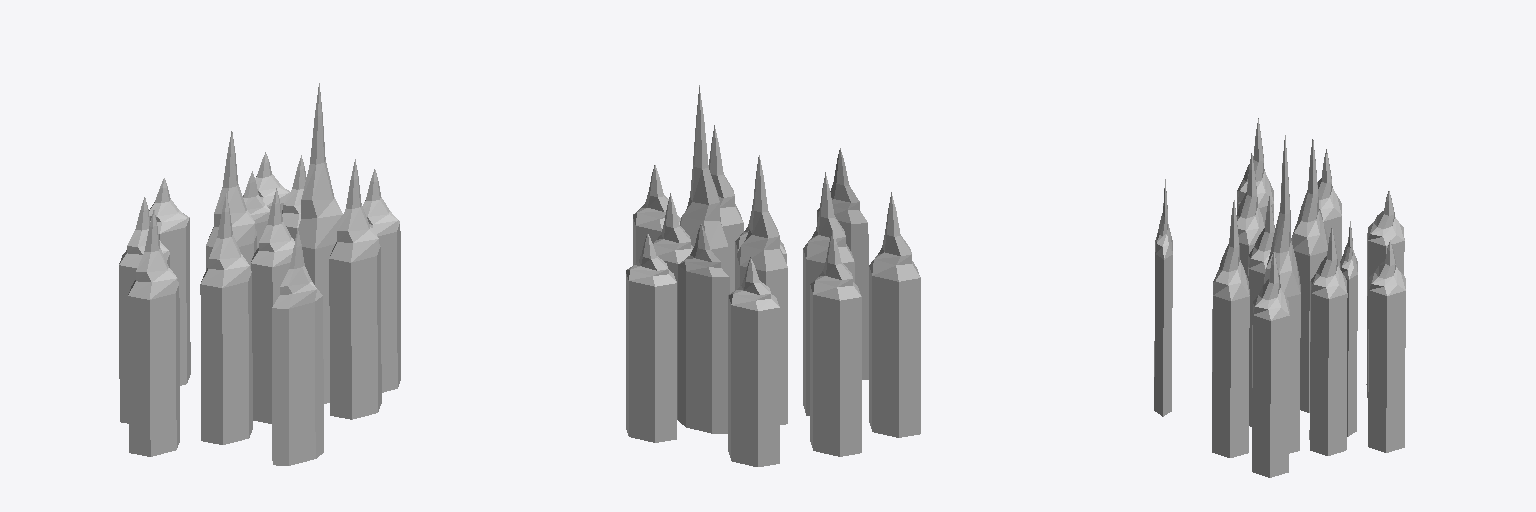
File: Penitentes.obj
3 renders of one model, left to right at view 1: azimuth 30°, elevation 25°; view 2: azimuth 150°, elevation 25°; view 3: azimuth 270°, elevation 25°, orthographic.
Visible parts, largest first — view 1: pCone28.009_meshId170_name.001; view 2: pCone28.009_meshId170_name.001; view 3: pCone28.009_meshId170_name.001.
Part boxes in pixels (x1,y1,x2,y2): pCone28.009_meshId170_name.001: (119, 83, 400, 465); pCone28.009_meshId170_name.001: (626, 85, 920, 466); pCone28.009_meshId170_name.001: (1154, 118, 1405, 477).
Bounding box in the file's own units: 7.72 × 8.25 × 5.99.